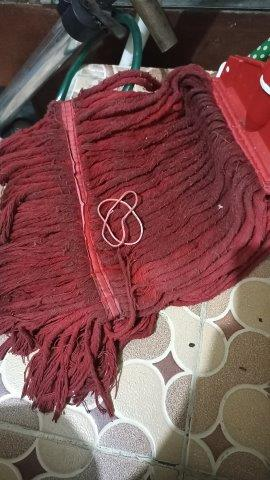karet: (97, 190, 144, 248)
